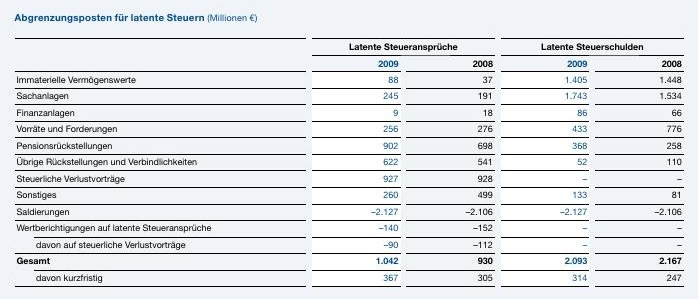table: (0, 0, 698, 299)
